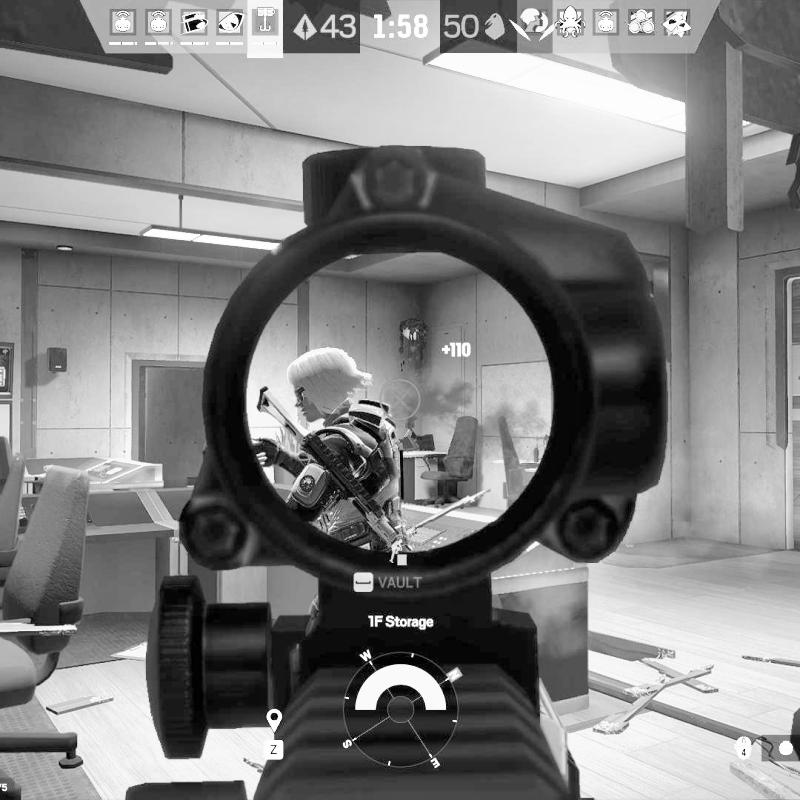Character: (254, 347, 416, 560)
Head: (286, 347, 372, 424)
